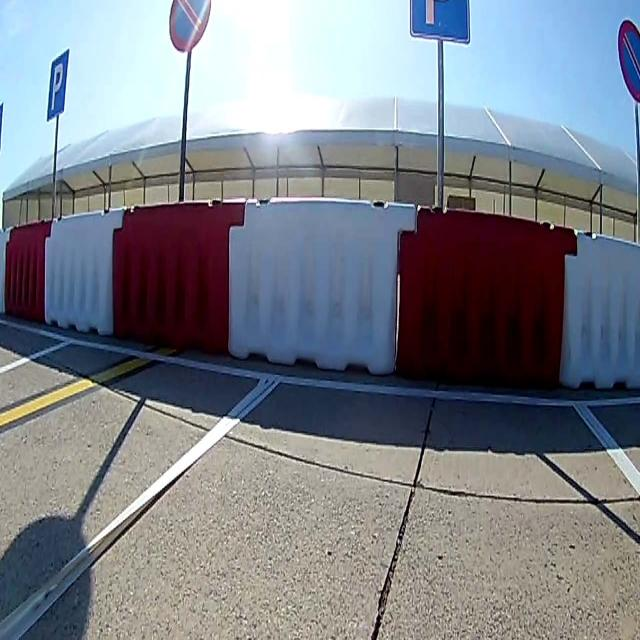park: (48, 52, 68, 119)
